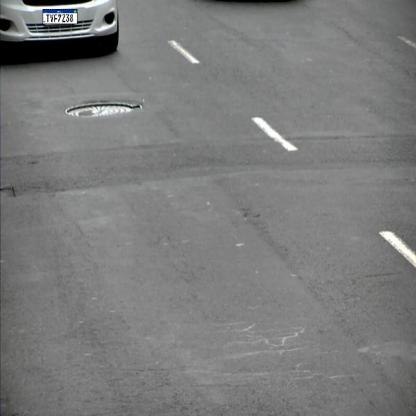PlacaM: (42, 9, 78, 24)
